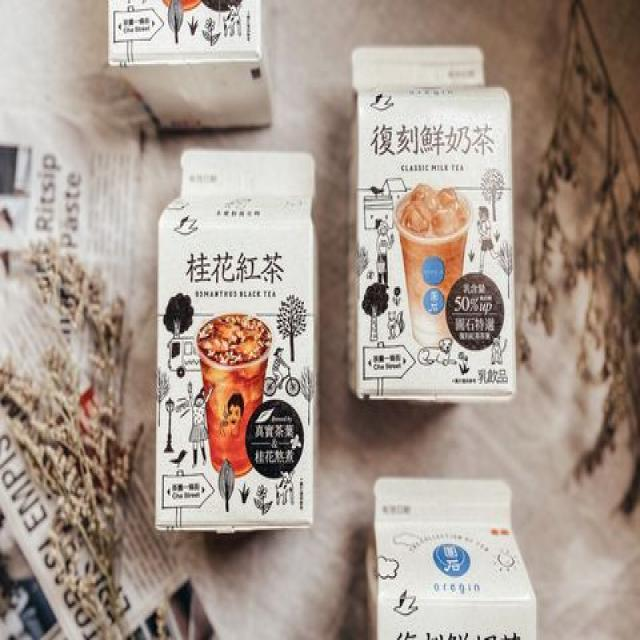non_white_jug: (133, 142, 327, 546), (342, 37, 533, 411)
